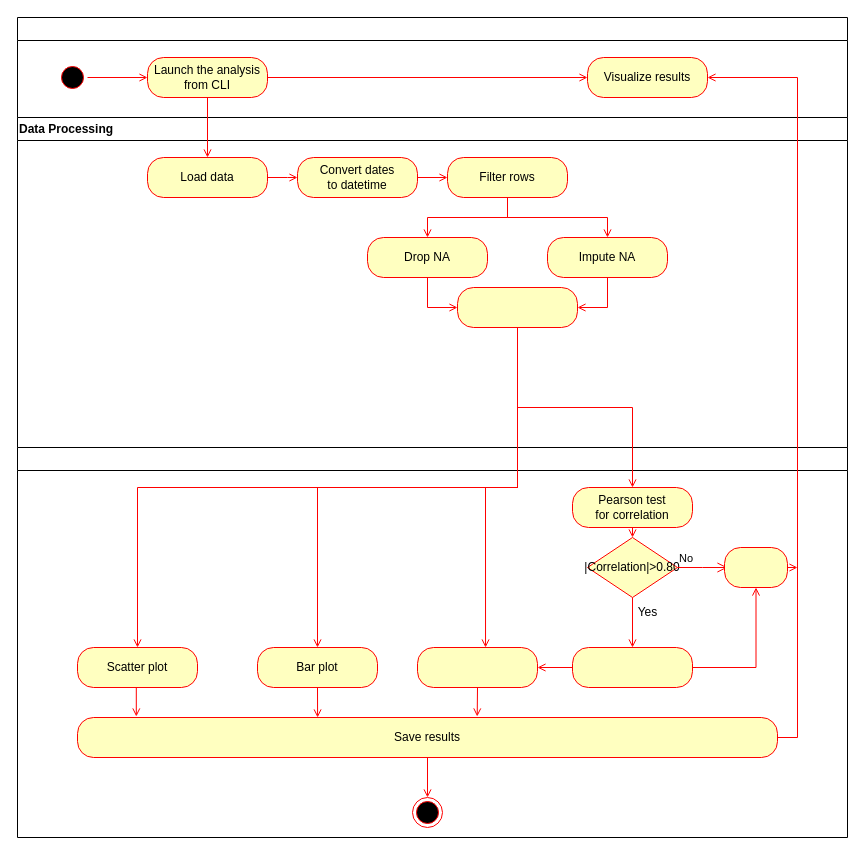
Image size: 865x855. Some labels were removed from this diagram. Here are the shapes that lost their labels. From the top down, the box of each, then its label:
(16, 16, 848, 118): User
(456, 286, 578, 328): Collapse + avg/max
(724, 546, 788, 588): Log results
(16, 446, 848, 838): Perform Analysis
(416, 646, 538, 688): Line plot
(572, 646, 692, 688): Linear Regression
